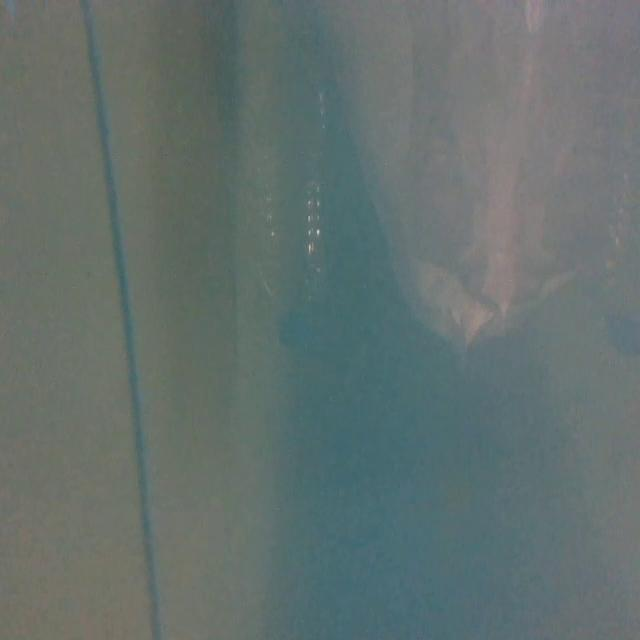plastic bags: (342, 0, 640, 389)
plastic bottle: (232, 14, 340, 380)
